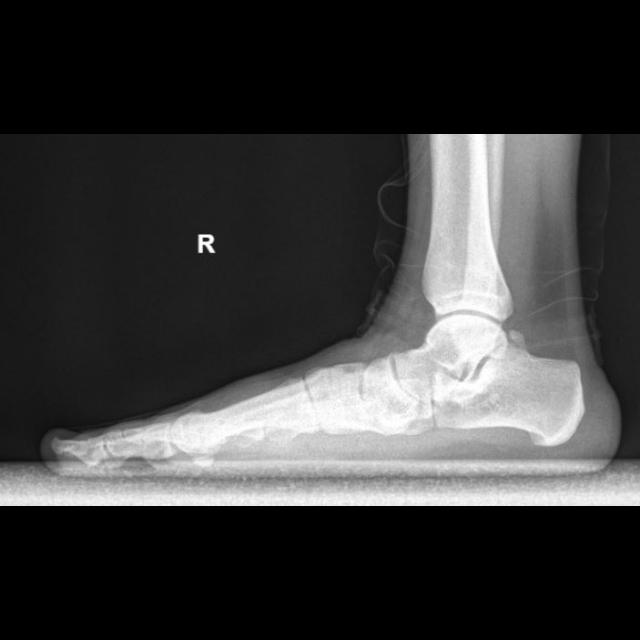a: (432, 333, 584, 446)
b: (363, 356, 426, 438)
c: (171, 377, 324, 466)
